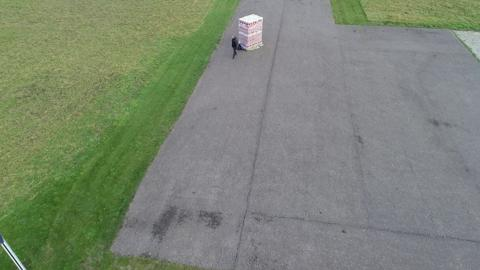RockwoolPallet: (239, 11, 263, 45)
